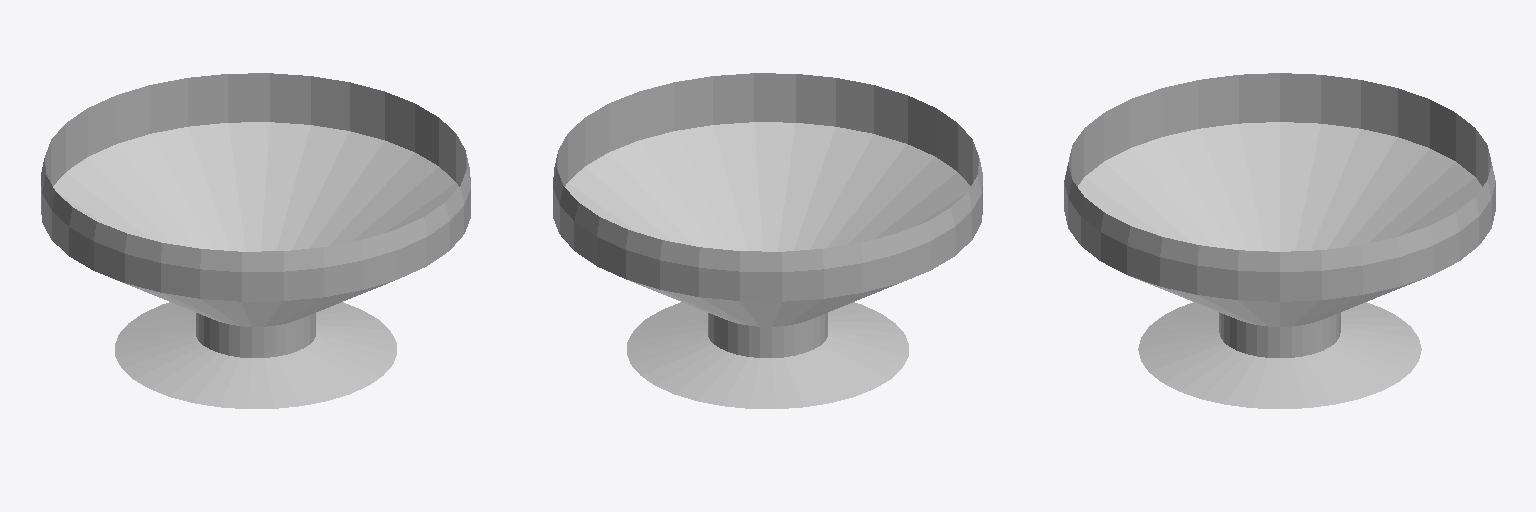
Rendered from Glass Bowl.obj.
3 views of the same model, side by side, from view 1: azimuth 30°, elevation 25°; view 2: azimuth 150°, elevation 25°; view 3: azimuth 270°, elevation 25° (orthographic).
Visible parts, largest first — view 1: Circle.001; view 2: Circle.001; view 3: Circle.001.
Part boxes in pixels (bbox=[...]): Circle.001: bbox=[41, 73, 470, 408]; Circle.001: bbox=[553, 73, 982, 408]; Circle.001: bbox=[1064, 73, 1495, 408].
Bounding box in the file's own units: 2.98 × 1.43 × 2.98.